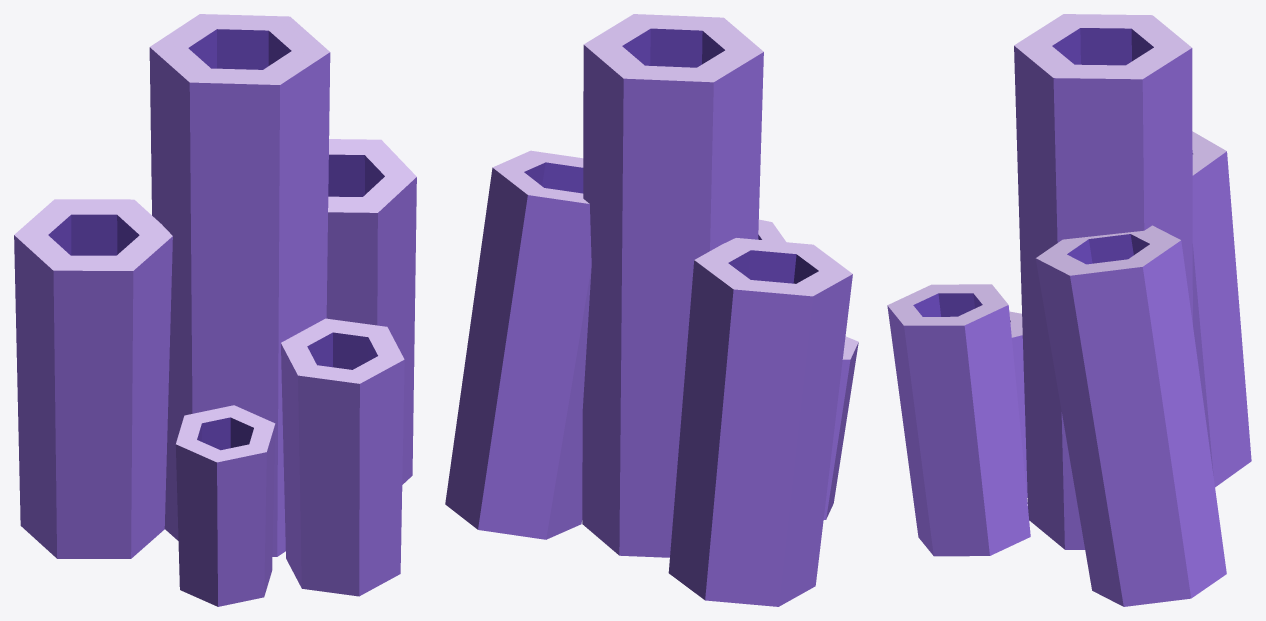
Rendered from coral_tube_purple.fbx.
The picture shows the model from 3 angles, left to right: view 1: azimuth 30°, elevation 25°; view 2: azimuth 150°, elevation 25°; view 3: azimuth 270°, elevation 25°; orthographic projection.
Parts seen in each view (by area): view 1: coral_tube_purple; view 2: coral_tube_purple; view 3: coral_tube_purple.
Boxes of the visible parts, bbox=[...] form: coral_tube_purple: bbox=[14, 14, 416, 606]; coral_tube_purple: bbox=[445, 14, 858, 606]; coral_tube_purple: bbox=[887, 14, 1251, 606].
Size of the model in its own units: 430 by 547 by 374.
1 material, 1 textured.
